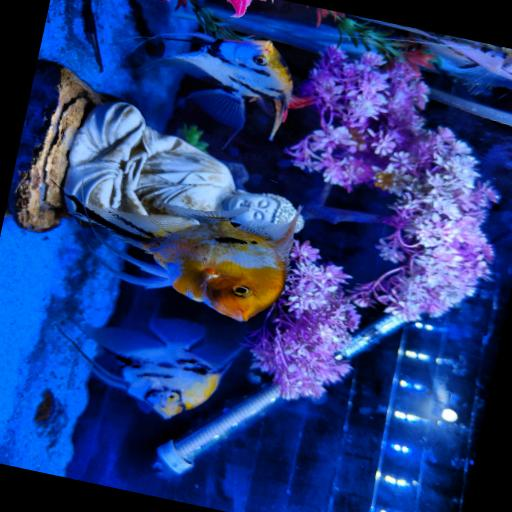Fish: (65, 192, 296, 320), (141, 32, 311, 138), (79, 319, 241, 418), (375, 20, 511, 92)
